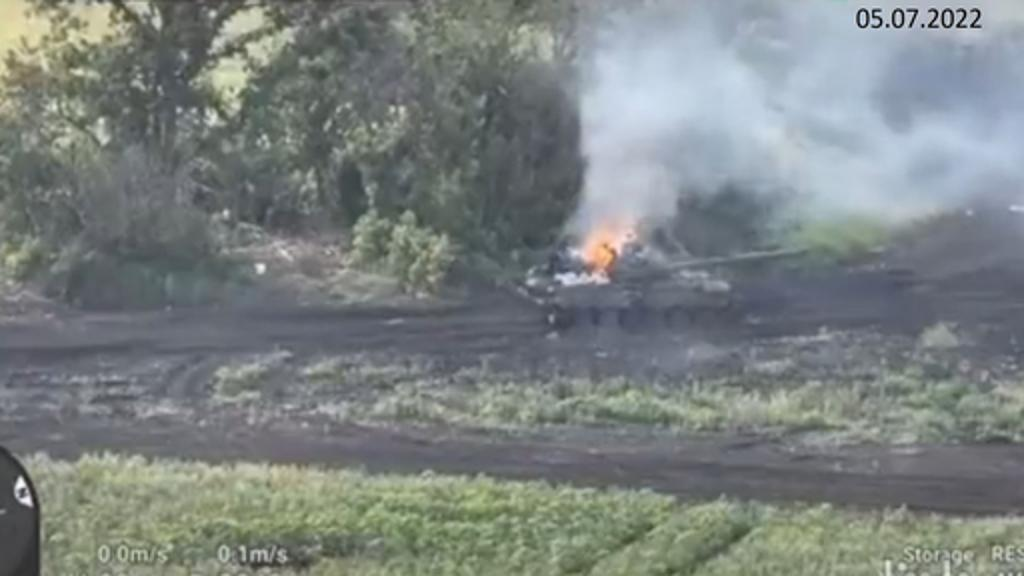TANK: (514, 226, 810, 330)
